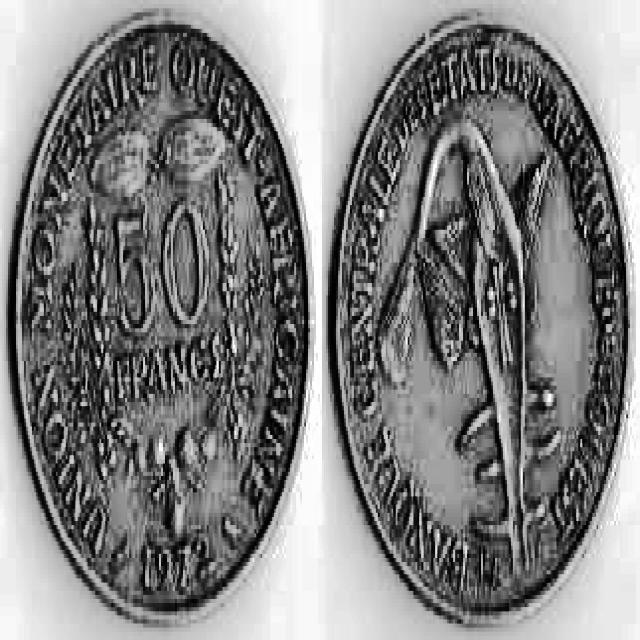fukk: (16, 13, 309, 619), (336, 21, 631, 617)
